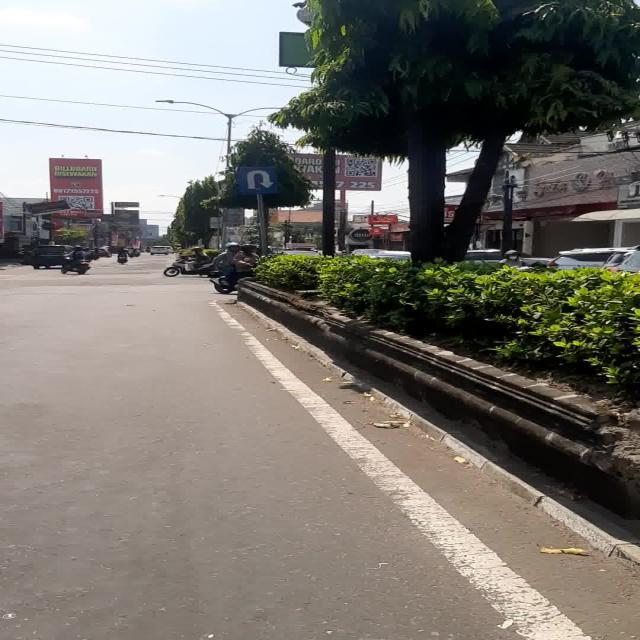Putar Balik: (236, 166, 277, 193)
